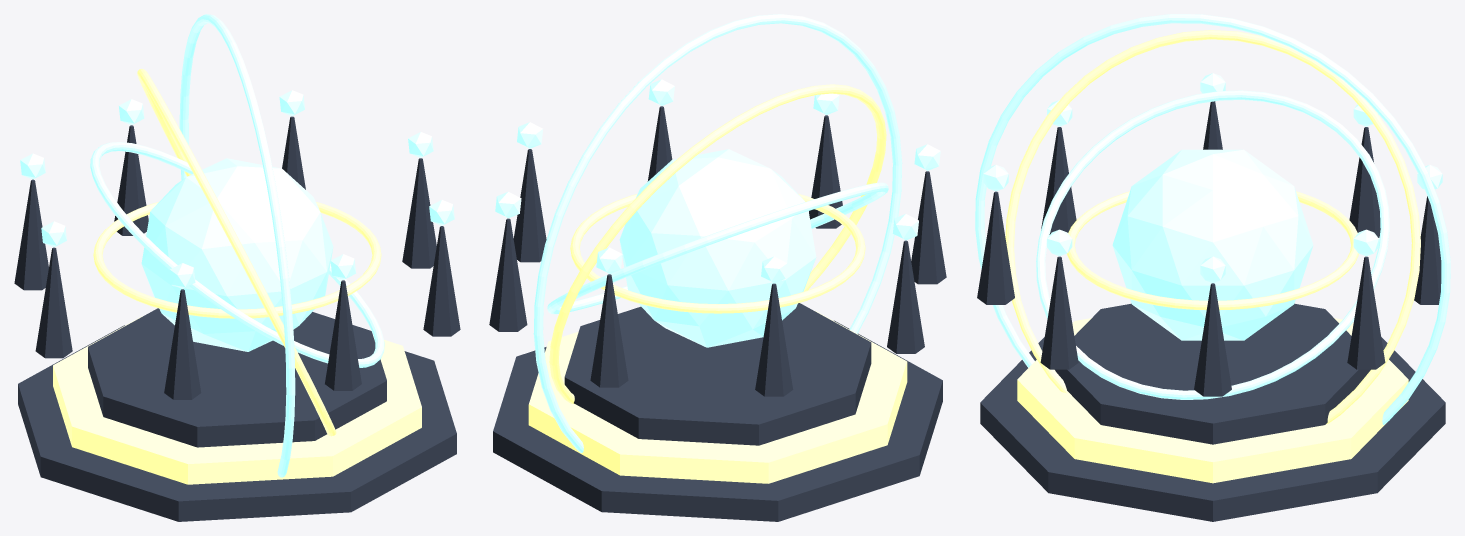
Rendered from gpu-blender-v39.glb.
The picture shows the model from 3 angles, left to right: view 1: azimuth 30°, elevation 25°; view 2: azimuth 150°, elevation 25°; view 3: azimuth 270°, elevation 25°; orthographic projection. The views are drawn at different scales.
Parts seen in each view (by area): view 1: Cylinder.002, SovereignCore_agent-policy-auditor, Cylinder, Cylinder.001, Torus.003, Torus.001, Torus.002, Torus, Cone.004, Cone.007, Cone.005, Cone.006 (+12 smaller); view 2: Cylinder.002, SovereignCore_agent-policy-auditor, Cylinder, Cylinder.001, Torus.003, Torus.002, Torus.001, Torus, Cone.002, Cone.003, Cone.001, Cone.004 (+11 smaller); view 3: SovereignCore_agent-policy-auditor, Cylinder.002, Cylinder, Cylinder.001, Torus.003, Torus.002, Torus.001, Torus, Cone, Cone.001, Cone.007, Cone.006 (+8 smaller).
Boxes of the visible parts, x1,y1,x2,y2 form: Cylinder.002: (88, 308, 386, 447); SovereignCore_agent-policy-auditor: (141, 158, 333, 351); Cylinder: (18, 325, 456, 521); Cylinder.001: (53, 316, 421, 484); Torus.003: (179, 14, 295, 477); Torus.001: (90, 142, 384, 367); Torus.002: (137, 69, 336, 436); Torus: (93, 202, 381, 318); Cone.004: (35, 247, 72, 358); Cone.007: (423, 226, 460, 336); Cone.005: (164, 289, 201, 399); Cone.006: (325, 280, 361, 390); Cylinder.002: (564, 303, 871, 445); SovereignCore_agent-policy-auditor: (619, 149, 816, 347); Cylinder: (493, 320, 942, 521); Cylinder.001: (528, 311, 907, 483); Torus.003: (533, 14, 902, 452); Torus.002: (549, 84, 886, 403); Torus.001: (547, 182, 888, 314); Torus: (570, 193, 865, 313); Cone.002: (590, 274, 628, 387); Cone.003: (755, 283, 793, 396); Cone.001: (489, 218, 527, 331); Cone.004: (887, 240, 924, 353); SovereignCore_agent-policy-auditor: (1112, 149, 1313, 340); Cylinder.002: (1055, 303, 1370, 444); Cylinder: (980, 337, 1445, 521); Cylinder.001: (1017, 318, 1408, 483); Torus.003: (975, 14, 1450, 424); Torus.002: (1005, 30, 1420, 423); Torus.001: (1036, 90, 1389, 399); Torus: (1067, 191, 1358, 310); Cone: (1194, 283, 1231, 396); Cone.001: (1347, 256, 1385, 369); Cone.007: (1040, 256, 1078, 369); Cone.006: (977, 191, 1014, 304).
Bounding box in the file's own units: 4.41 × 4.7 × 4.49.
